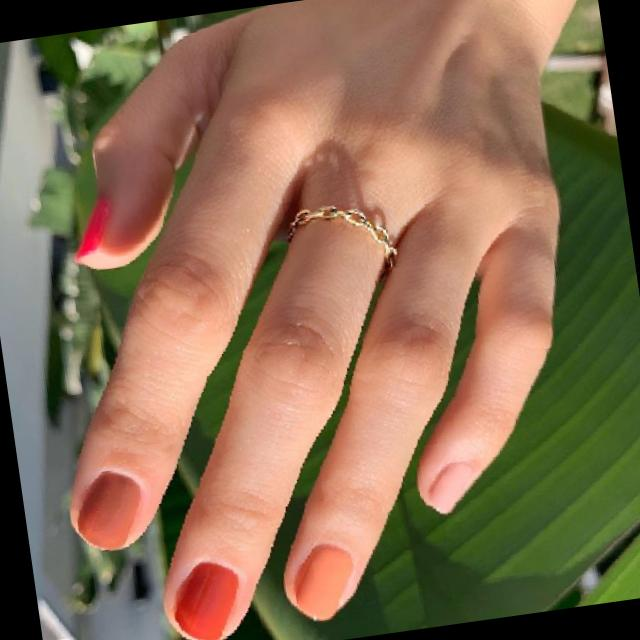Nail: (174, 561, 237, 640), (76, 472, 140, 549), (294, 544, 352, 619), (425, 461, 473, 512), (75, 195, 110, 261)
